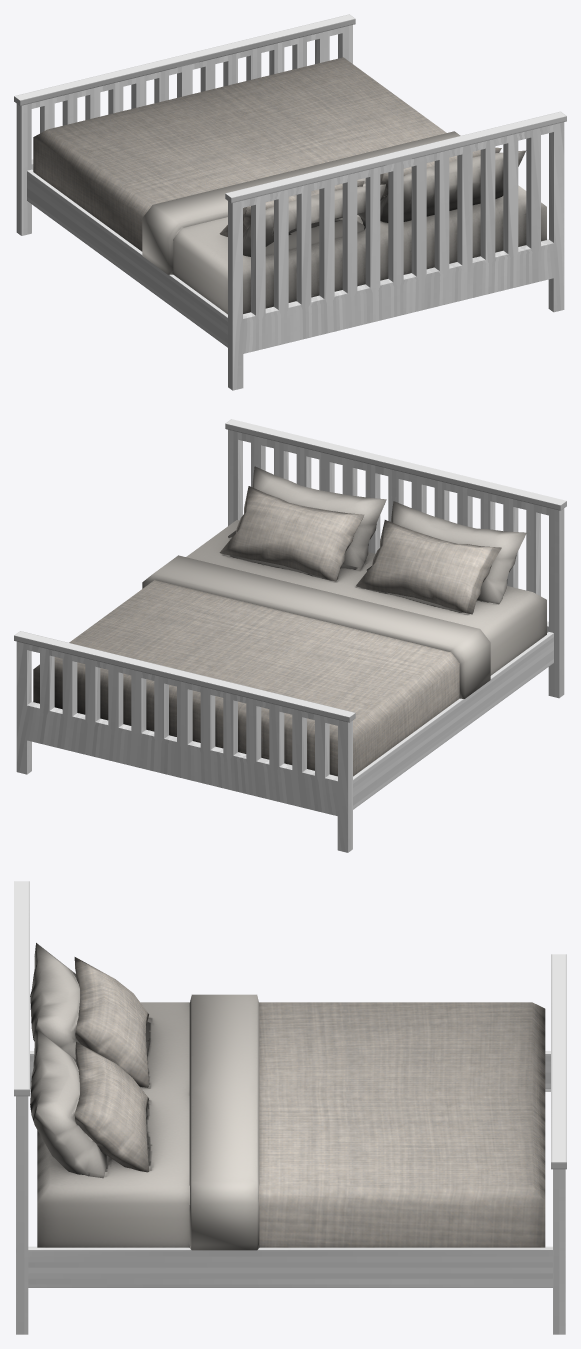
File: FUR0210026.fbx
3 views of the same model, one above another, from view 1: azimuth 30°, elevation 25°; view 2: azimuth 150°, elevation 25°; view 3: azimuth 270°, elevation 25° (orthographic). The views are drawn at different scales.
Parts seen in each view (by area): view 1: smFUR0210026; view 2: smFUR0210026; view 3: smFUR0210026.
Boxes of the visible parts, x1,y1,x2,y2 form: smFUR0210026: (14, 14, 566, 390); smFUR0210026: (14, 419, 566, 852); smFUR0210026: (14, 881, 566, 1334).
Size of the model in its own units: 260 by 144 by 292.
1 material, 1 textured.
